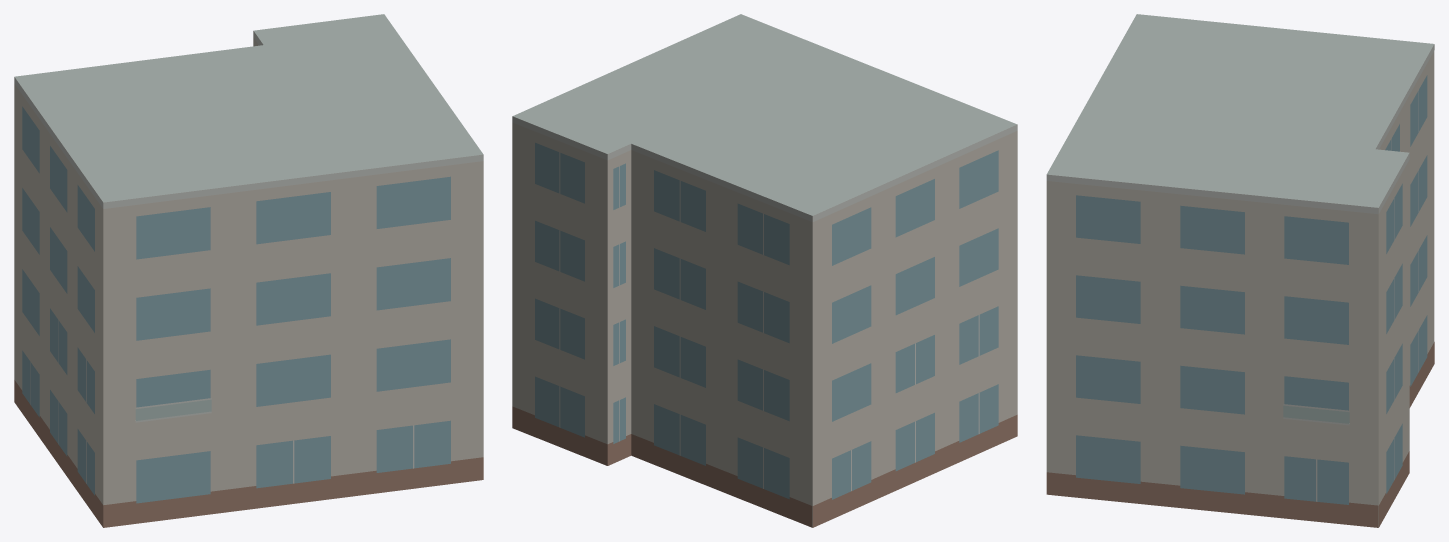
Rendered from residential-e900b617-a7e5-422f-bedc-f88f3e734b0f.glb.
The picture shows the model from 3 angles, left to right: view 1: azimuth 30°, elevation 25°; view 2: azimuth 150°, elevation 25°; view 3: azimuth 270°, elevation 25°; orthographic projection. The views are drawn at different scales.
Visible parts, largest first — view 1: residential-e900b617-a7e5-422f-bedc-f88f3e734b0f.tmp; view 2: residential-e900b617-a7e5-422f-bedc-f88f3e734b0f.tmp; view 3: residential-e900b617-a7e5-422f-bedc-f88f3e734b0f.tmp.
Part boxes in pixels (left/top/right/bottom): residential-e900b617-a7e5-422f-bedc-f88f3e734b0f.tmp: left=14, top=14, right=483, bottom=527; residential-e900b617-a7e5-422f-bedc-f88f3e734b0f.tmp: left=512, top=14, right=1017, bottom=527; residential-e900b617-a7e5-422f-bedc-f88f3e734b0f.tmp: left=1046, top=14, right=1434, bottom=527.
Bounding box in the file's own units: 15.86 × 12.2 × 13.41.
